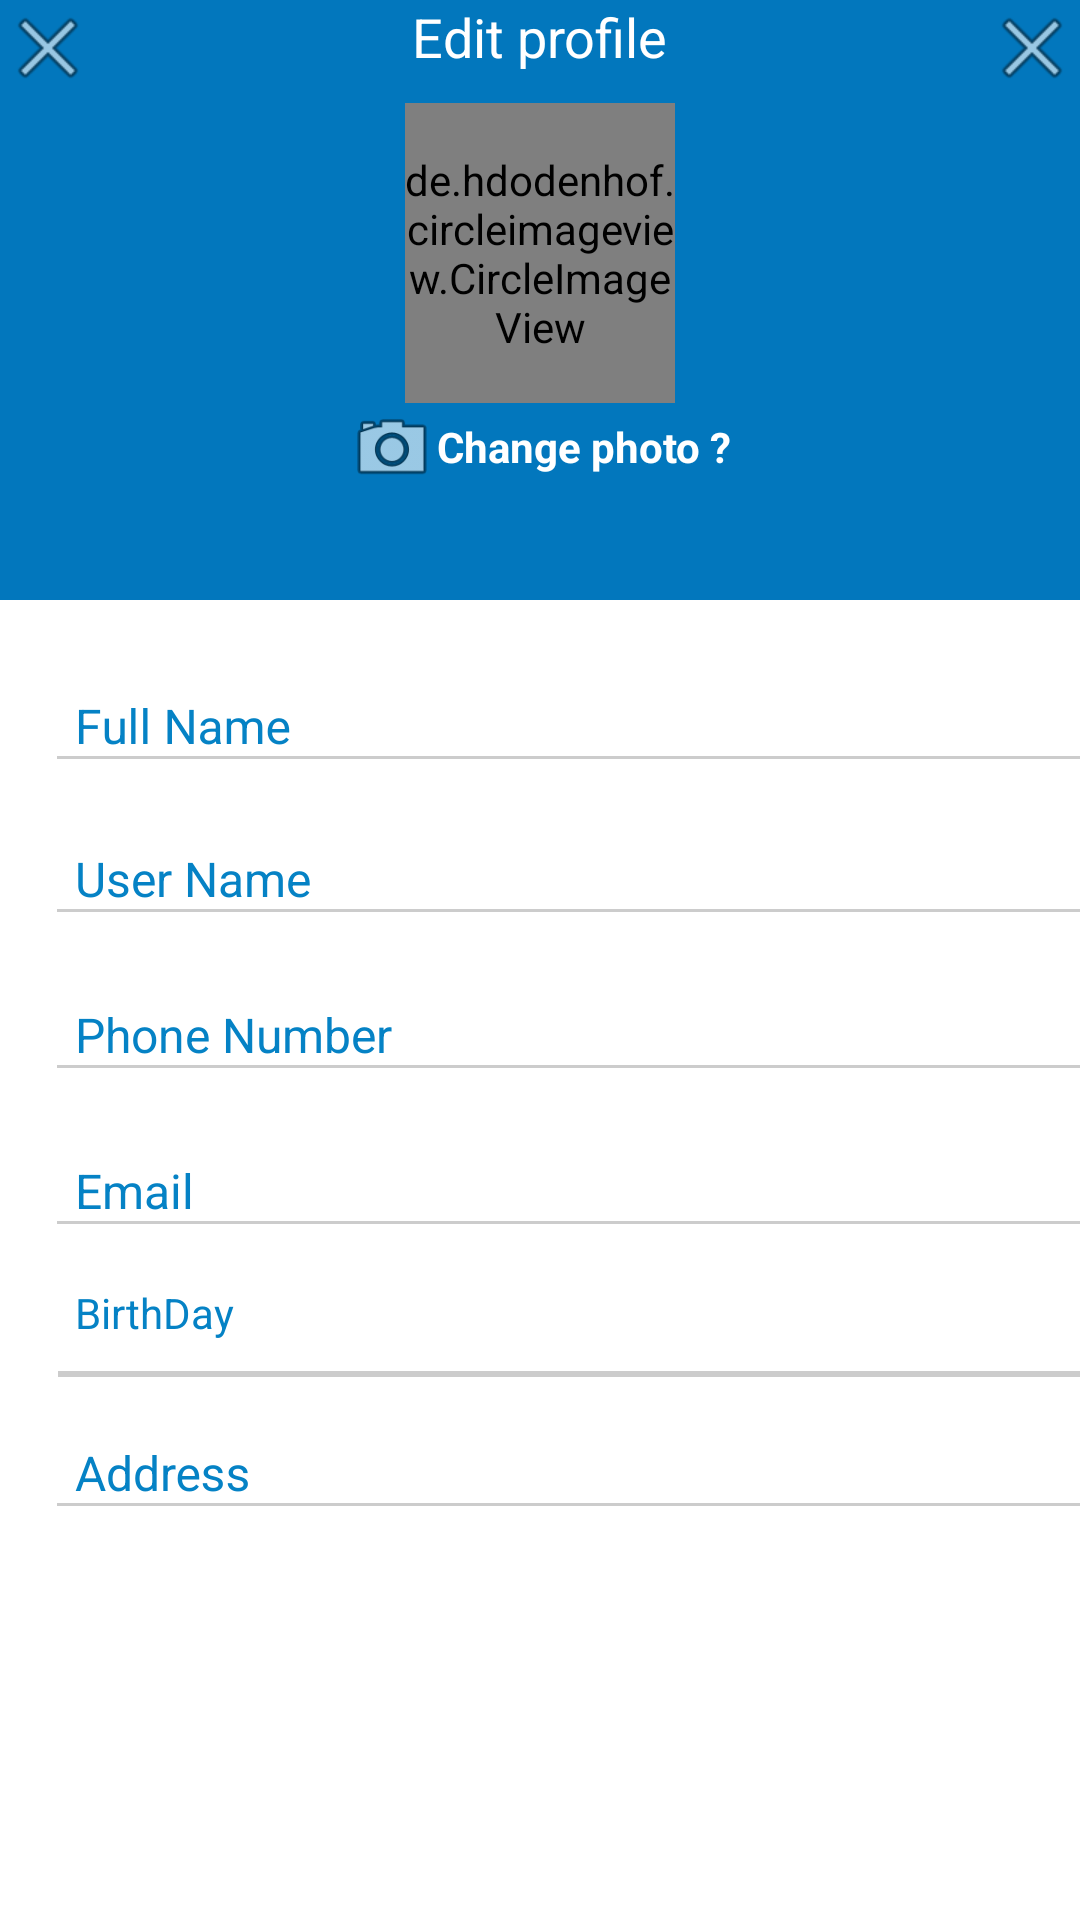

Icon bounding boxes for this 1080x1920 phone screenshot, format (x1, y1, x2, y2):
camera: (357, 419, 427, 474)
close clear cancel: (18, 18, 78, 78), (1002, 18, 1062, 78)
